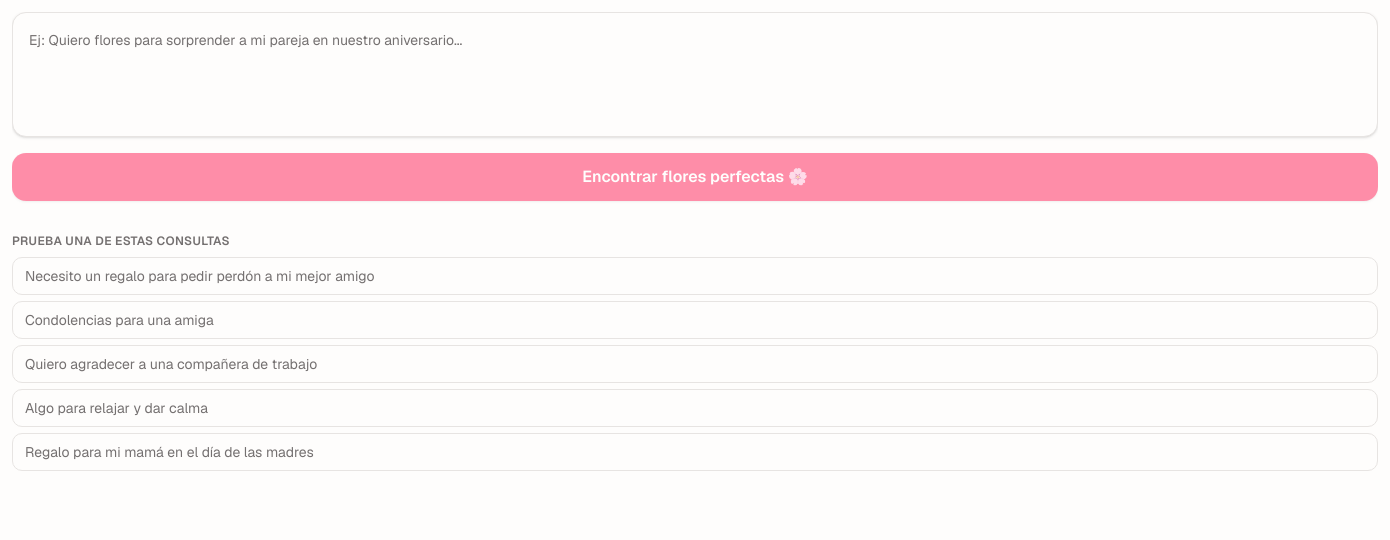
Test: RecomendadorForm › muestra mensaje de error cuando obtenerRecomendaciones lanza excepción
The width and height of the screenshot is (1390, 540).
Replace the text in the text box with "flores": (695, 74) [12, 12, 1378, 137]
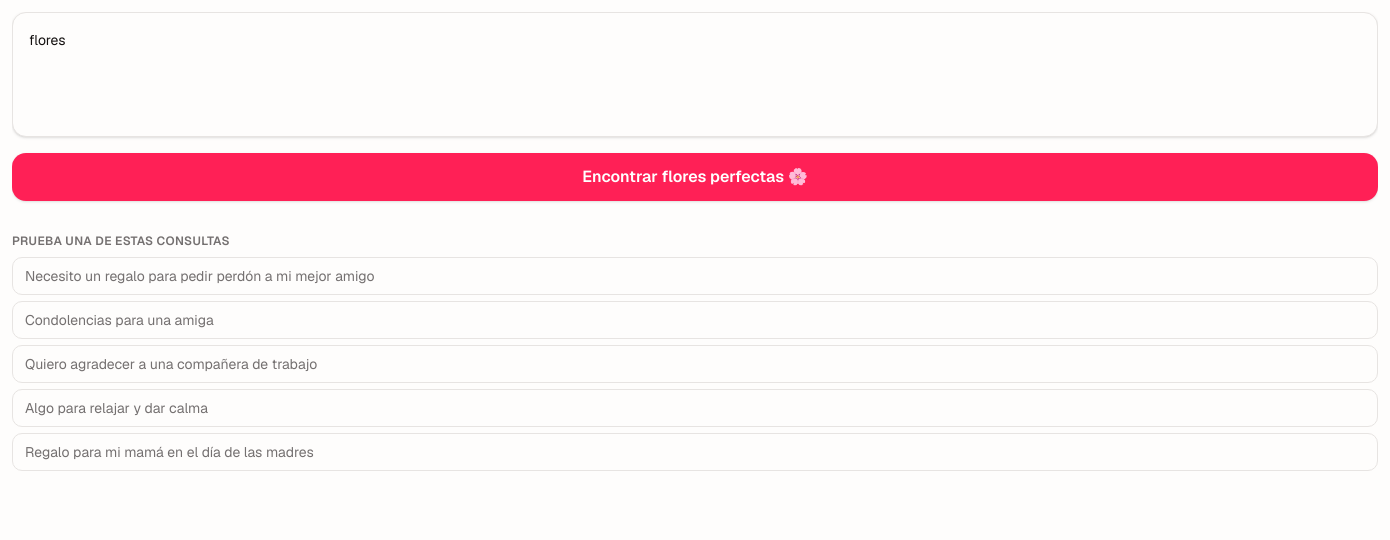
Click the button "Encontrar flores perfectas 🌸": (695, 177) [12, 153, 1378, 201]
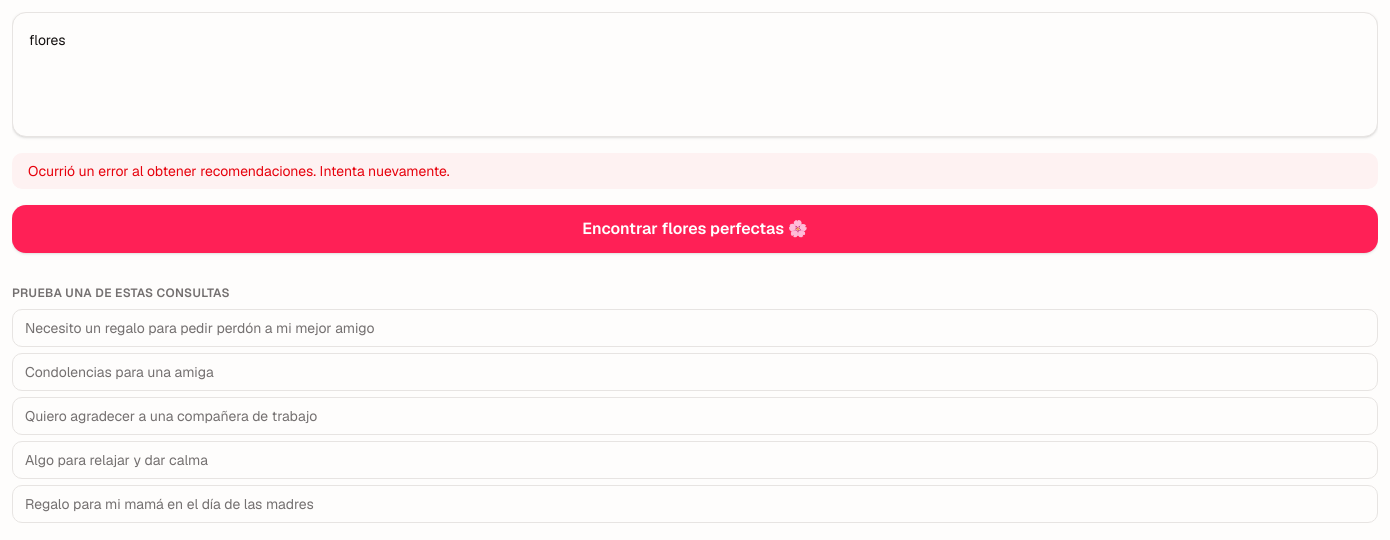
Expected: the text "Ocurrió un error al obtener recomendaciones" is shown, [28, 162, 450, 180]
